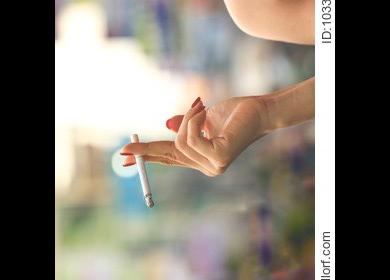Cigarette: (131, 134, 154, 207)
